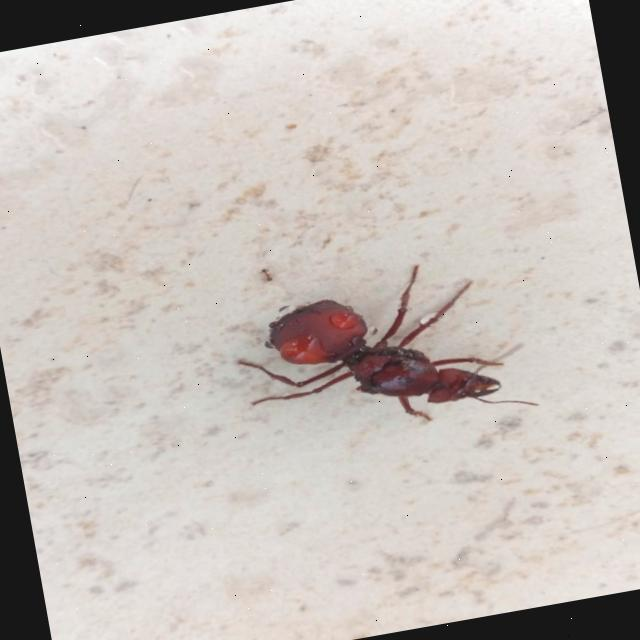Alive-Female-Dealate: (226, 248, 538, 456)
